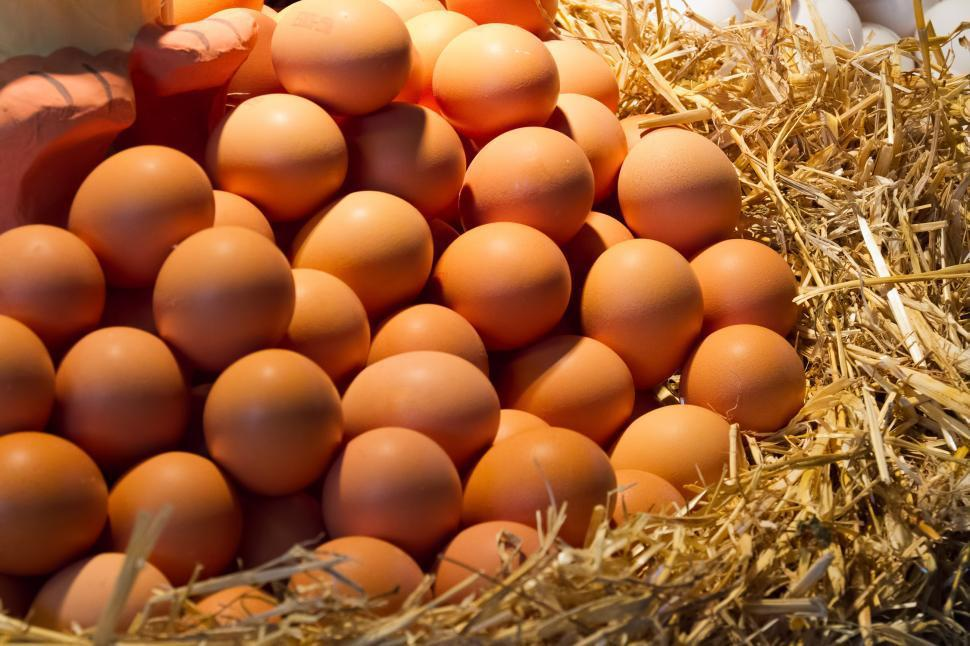egg: (54, 138, 223, 286), (195, 339, 348, 489), (330, 338, 505, 468), (43, 317, 193, 458), (202, 85, 353, 219), (571, 228, 707, 374), (153, 222, 301, 355), (431, 212, 577, 346), (455, 416, 621, 533), (109, 448, 251, 577), (304, 184, 440, 313), (319, 434, 471, 549), (263, 1, 420, 110), (454, 122, 599, 240), (611, 134, 748, 250), (429, 20, 565, 136), (1, 213, 111, 352), (0, 434, 104, 574), (284, 529, 430, 624), (357, 101, 472, 219), (607, 403, 749, 489), (696, 326, 807, 426), (442, 521, 575, 604), (682, 241, 800, 334)
